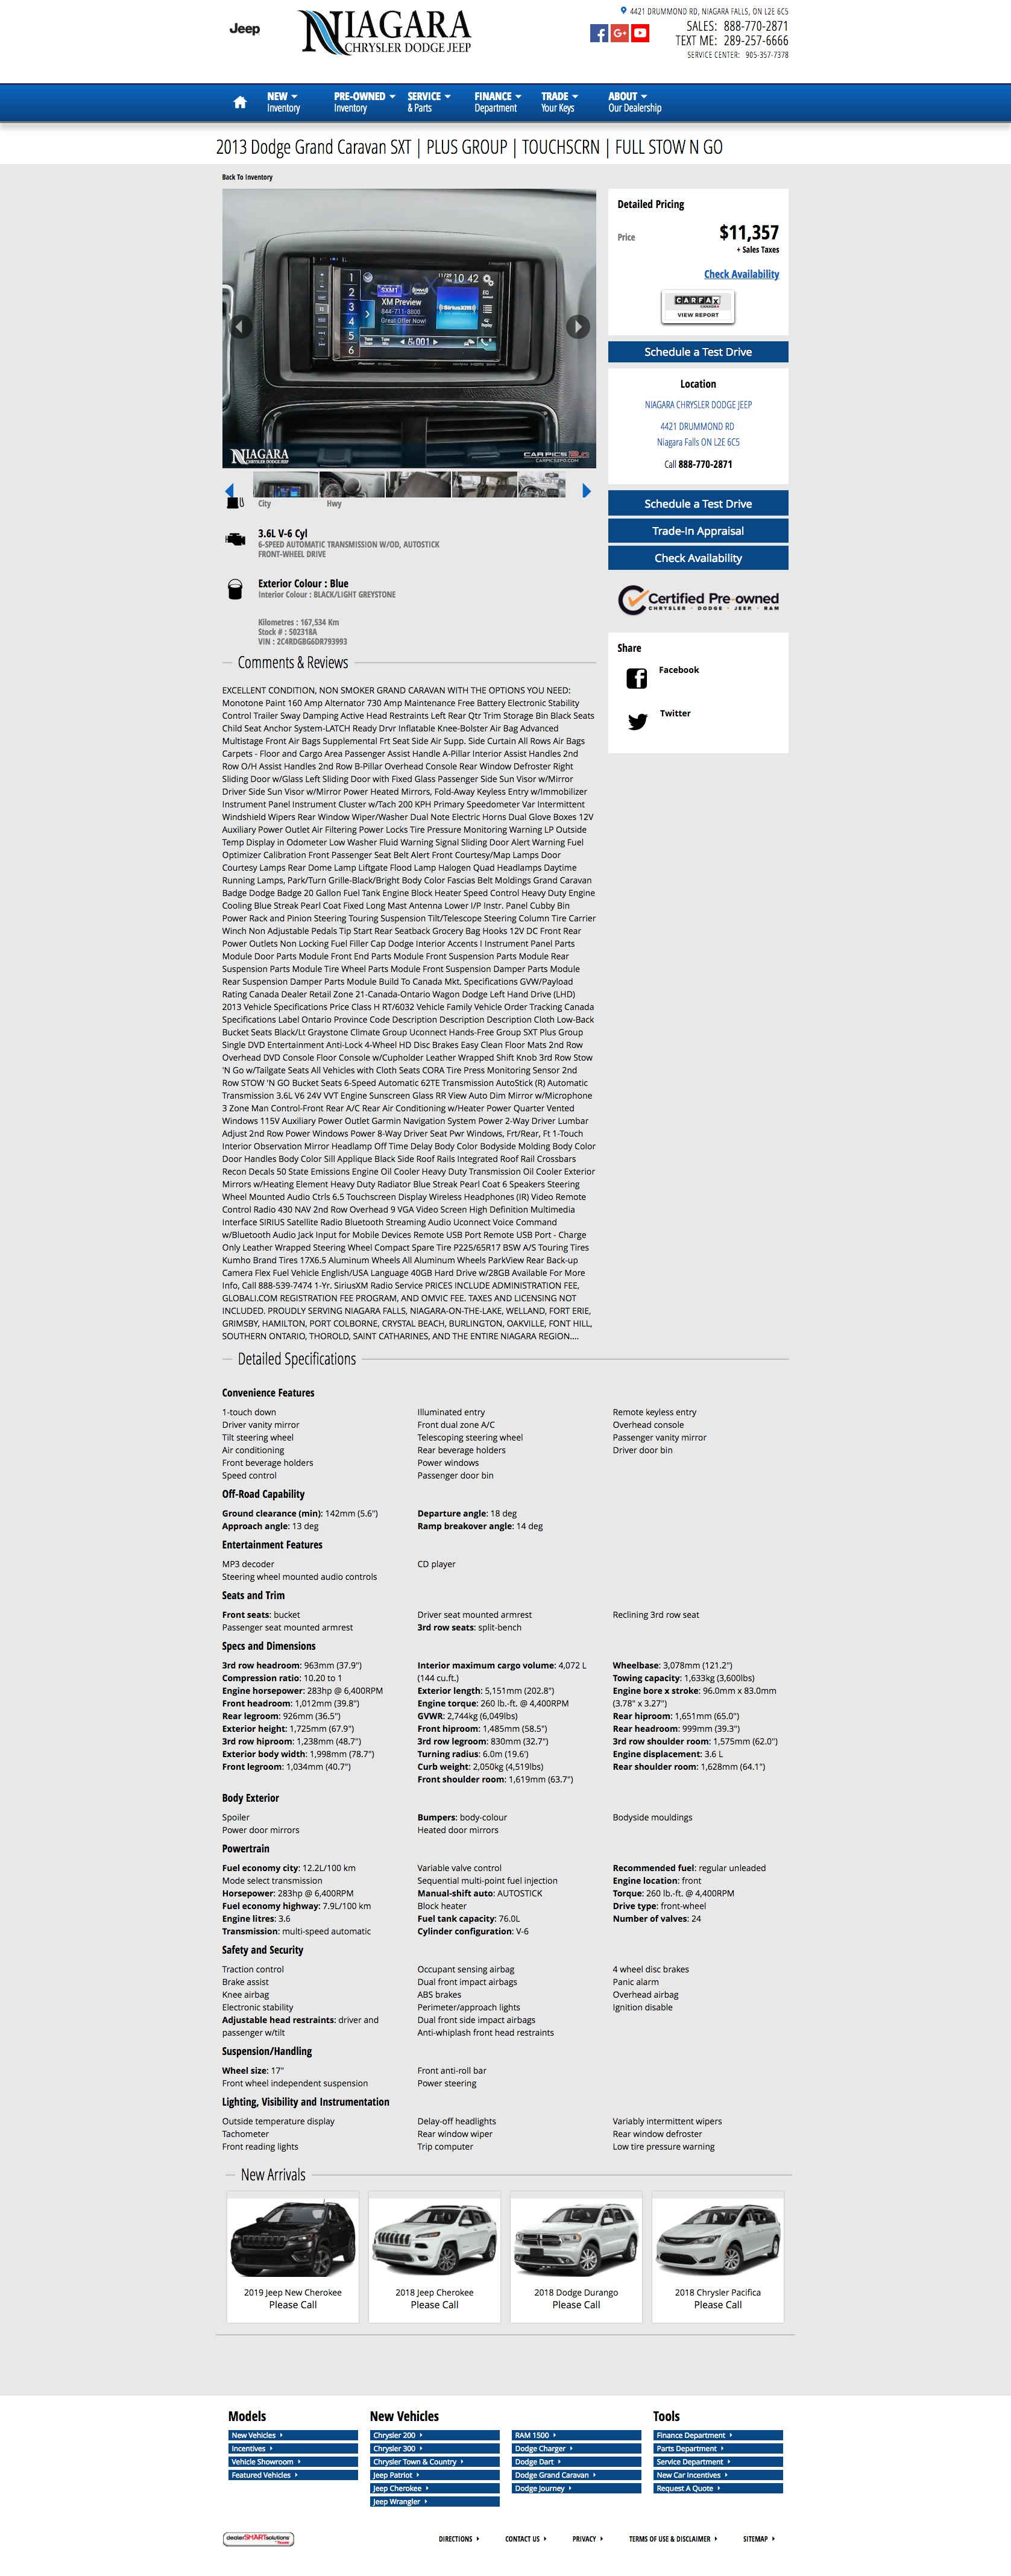car: (581, 483, 592, 499)
